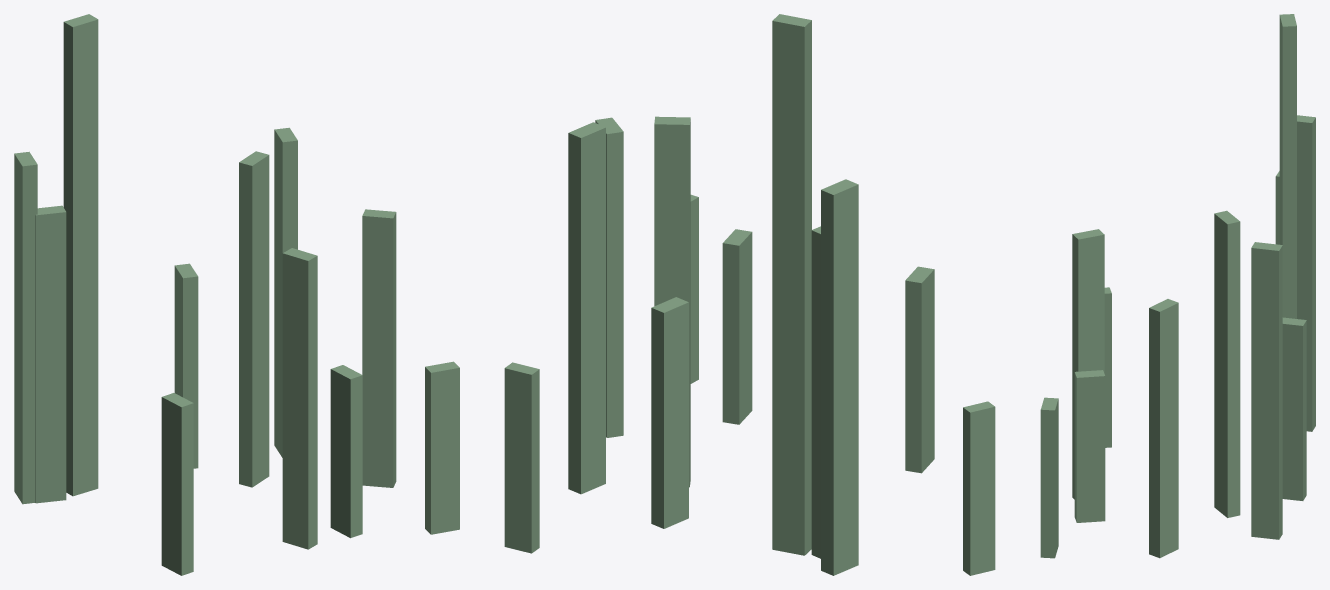
Rendered from weed_cluster_04.glb.
3 renders of one model, left to right at view 1: azimuth 30°, elevation 25°; view 2: azimuth 150°, elevation 25°; view 3: azimuth 270°, elevation 25°, orthographic. The views are drawn at different scales.
Parts seen in each view (by area): view 1: blade10, blade8, blade1, blade0, blade11, blade7, blade2, blade4, blade9, blade3, blade5, blade6; view 2: blade10, blade7, blade5, blade6, blade1, blade9, blade3, blade0, blade11, blade4; view 3: blade5, blade1, blade0, blade2, blade10, blade8, blade7, blade3, blade6, blade4, blade9.
Part boxes in pixels (box(x1,y1,x2,y2)): blade10: box(63, 14, 98, 496); blade8: box(282, 248, 317, 549); blade1: box(239, 151, 269, 487); blade0: box(362, 209, 396, 487); blade11: box(35, 205, 66, 503); blade7: box(14, 151, 37, 504); blade2: box(504, 362, 539, 553); blade4: box(425, 361, 459, 534); blade9: box(161, 393, 193, 575); blade3: box(330, 365, 362, 538); blade5: box(274, 127, 297, 457); blade6: box(174, 263, 198, 468); blade10: box(772, 14, 811, 555); blade7: box(821, 179, 858, 575); blade5: box(568, 122, 605, 494); blade6: box(651, 297, 688, 528); blade1: box(654, 116, 690, 487); blade9: box(905, 266, 934, 473); blade3: box(722, 229, 752, 424); blade0: box(595, 117, 623, 437); blade11: box(811, 226, 820, 558); blade4: box(690, 194, 698, 383); blade5: box(1251, 242, 1282, 539); blade1: box(1214, 210, 1240, 517); blade0: box(1149, 299, 1178, 558); blade2: box(963, 401, 995, 575); blade10: box(1279, 14, 1296, 318); blade8: box(1072, 229, 1104, 499); blade7: box(1297, 115, 1315, 431); blade3: box(1074, 370, 1105, 522); blade6: box(1282, 317, 1306, 500); blade4: box(1040, 397, 1058, 558); blade9: box(1104, 287, 1111, 447).
Size of the model in its own units: 0.5028 by 0.6567 by 0.4899.
